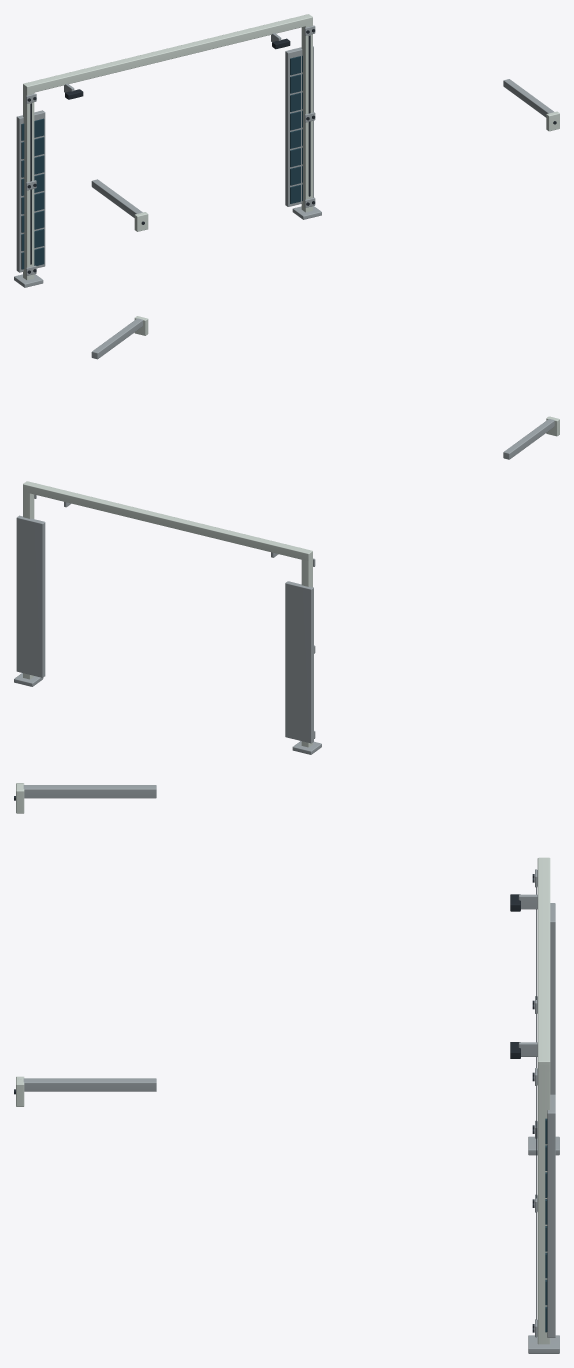
Rendered from energy.glb.
The picture shows the model from 3 angles, top to bottom: view 1: azimuth 30°, elevation 25°; view 2: azimuth 150°, elevation 25°; view 3: azimuth 270°, elevation 25°; orthographic projection. The views are drawn at different scales.
Parts seen in each view (by area): view 1: Roofless modular frame energy; view 2: Roofless modular frame energy; view 3: Roofless modular frame energy.
Part boxes in pixels (bbox=[...]): Roofless modular frame energy: bbox=[14, 14, 559, 287]; Roofless modular frame energy: bbox=[14, 316, 559, 754]; Roofless modular frame energy: bbox=[14, 783, 559, 1353].
Size of the model in its own units: 6.74 by 3.28 by 5.16.
